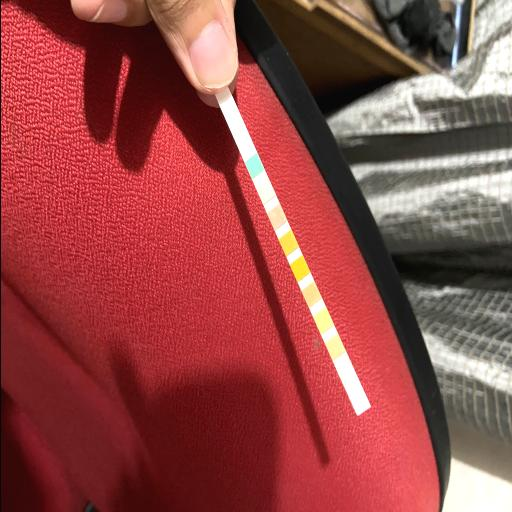Bilirubin: (260, 184, 270, 198)
Blood: (293, 262, 305, 276)
Glucose: (248, 158, 258, 174)
Ketone: (270, 210, 282, 224)
Leukocytes: (353, 394, 365, 410)
Nitrite: (341, 366, 352, 382)
Protein: (318, 314, 328, 330)
SpGravity: (282, 236, 294, 250)
Urobilinogen: (329, 340, 340, 356)
pH: (304, 288, 316, 302)
strip: (217, 93, 370, 416)
